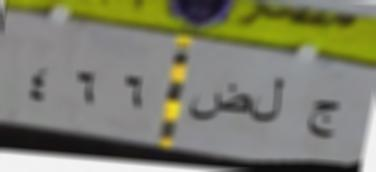4: (23, 64, 54, 105)
6: (120, 72, 147, 112), (72, 70, 100, 108)
daad: (189, 79, 252, 120)
jeem: (301, 94, 344, 143)
laam: (252, 74, 288, 128)
